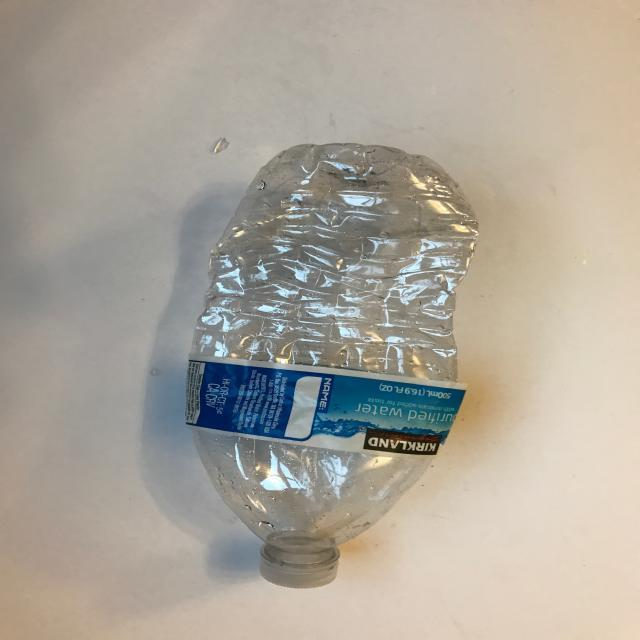plastic: (182, 140, 482, 589)
